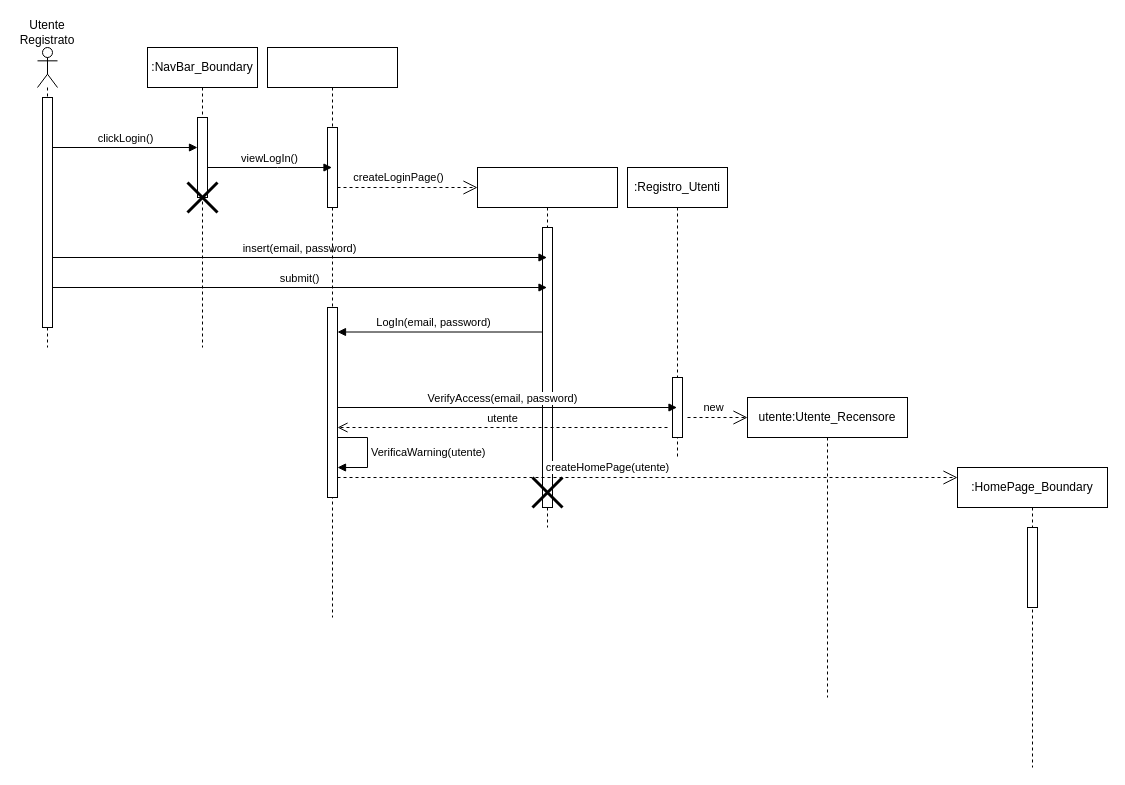
This 1125x785 diagram has some shape labels left out. The shapes that lost their labels are listed below. From the top down, each one's box as (x1, y1, x2, y2) in pixels, then its label:
(266, 46, 398, 618): :Autentication_Control
(476, 166, 618, 528): :LogIn_Boundary
